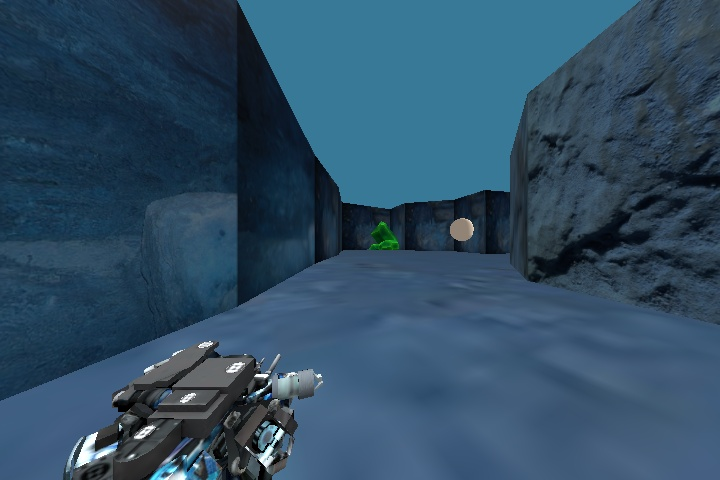green_crystal: (361, 218, 405, 256)
white_sphere: (442, 212, 481, 245)
